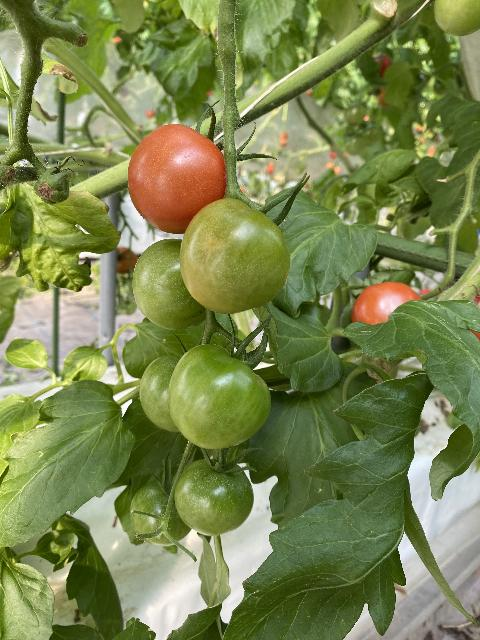l_fully_ripened: (127, 123, 226, 234), (351, 282, 423, 324)
l_green: (179, 198, 291, 314), (168, 342, 270, 450), (132, 238, 216, 330), (173, 457, 255, 536), (130, 478, 192, 546), (140, 356, 180, 432), (434, 0, 479, 37)
